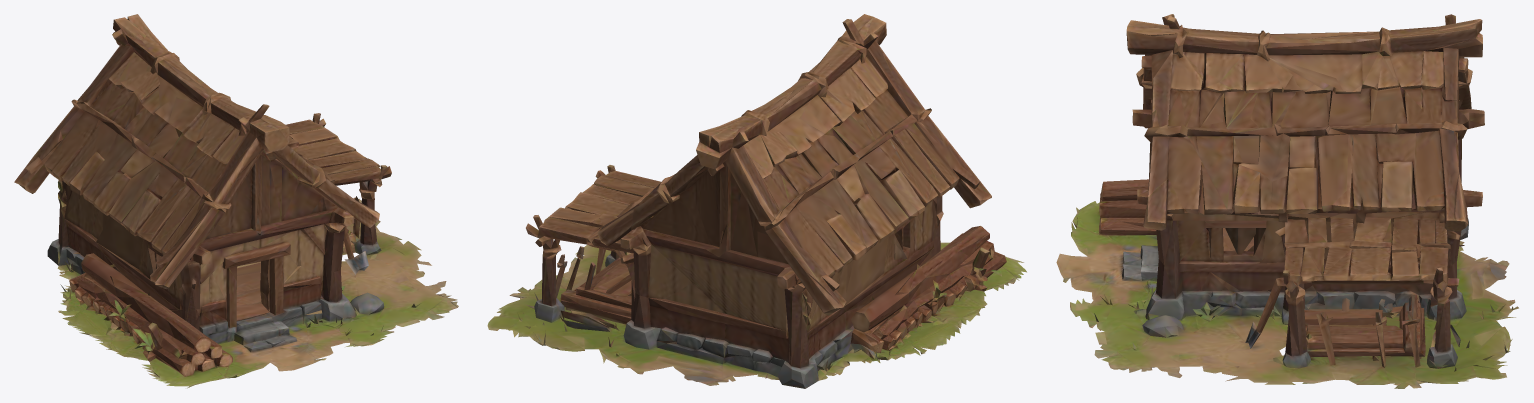
The model's file is lumbercamp.glb.
3 views of the same model, side by side, from view 1: azimuth 30°, elevation 25°; view 2: azimuth 150°, elevation 25°; view 3: azimuth 270°, elevation 25° (orthographic). The views are drawn at different scales.
Size of the model in its own units: 1.87 by 1.17 by 1.88.
1 material, 1 textured.
